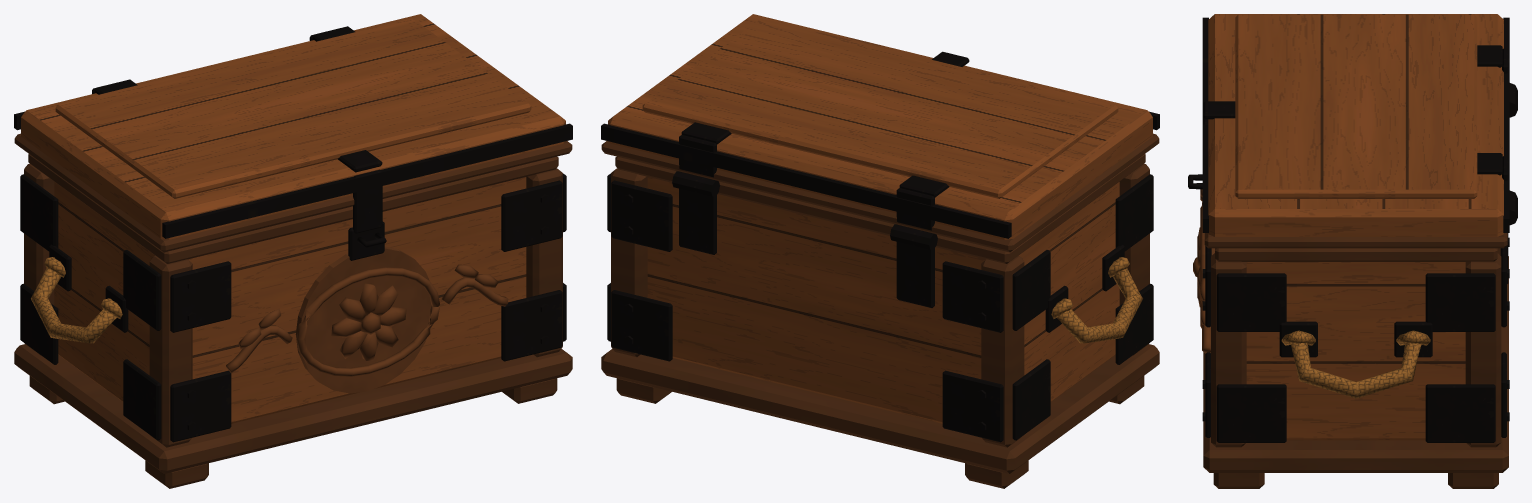
File: peti_lemari.fbx
3 views of the same model, side by side, from view 1: azimuth 30°, elevation 25°; view 2: azimuth 150°, elevation 25°; view 3: azimuth 270°, elevation 25° (orthographic).
Parts seen in each view (by area): view 1: Peti_Badan, Peti_Tutup; view 2: Peti_Badan, Peti_Tutup; view 3: Peti_Tutup, Peti_Badan.
Boxes of the visible parts, x1,y1,x2,y2 form: Peti_Badan: [14, 154, 572, 488]; Peti_Tutup: [14, 14, 572, 252]; Peti_Badan: [601, 154, 1159, 488]; Peti_Tutup: [601, 14, 1159, 252]; Peti_Tutup: [1202, 14, 1509, 248]; Peti_Badan: [1188, 83, 1517, 488].
Bounding box in the file's own units: 4.5 × 2.53 × 2.59.
Materials: 1 (1 with a texture image).
